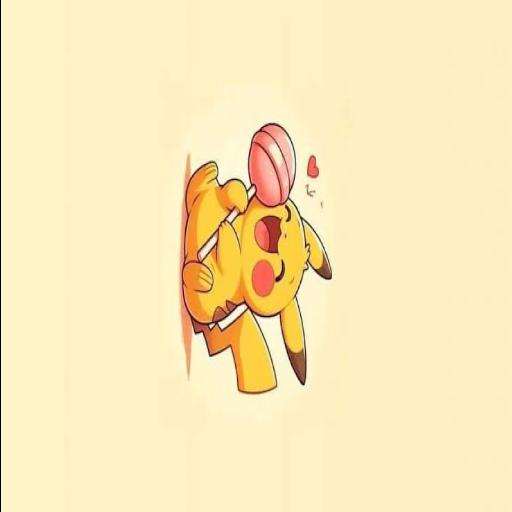Pikachu: (180, 160, 332, 396)
